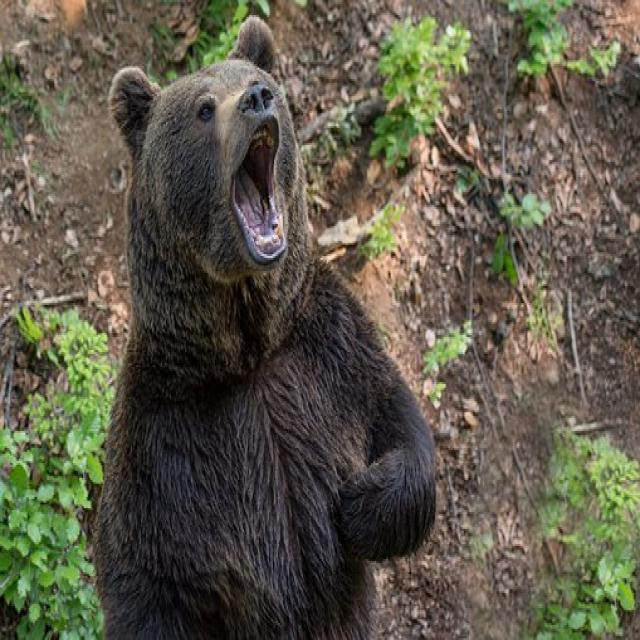Bear: (91, 17, 439, 640)
